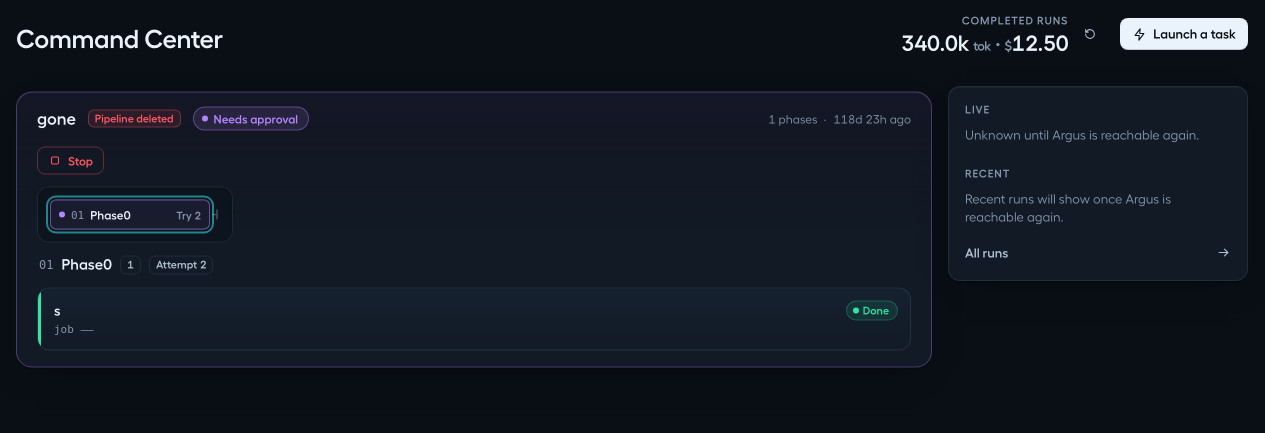
Test: an instance whose pipeline was deleted › asks before stopping, and Keep running leaves the instance alone
The width and height of the screenshot is (1265, 433).
Click the button "Stop" at (70, 155), box [37, 141, 104, 169]
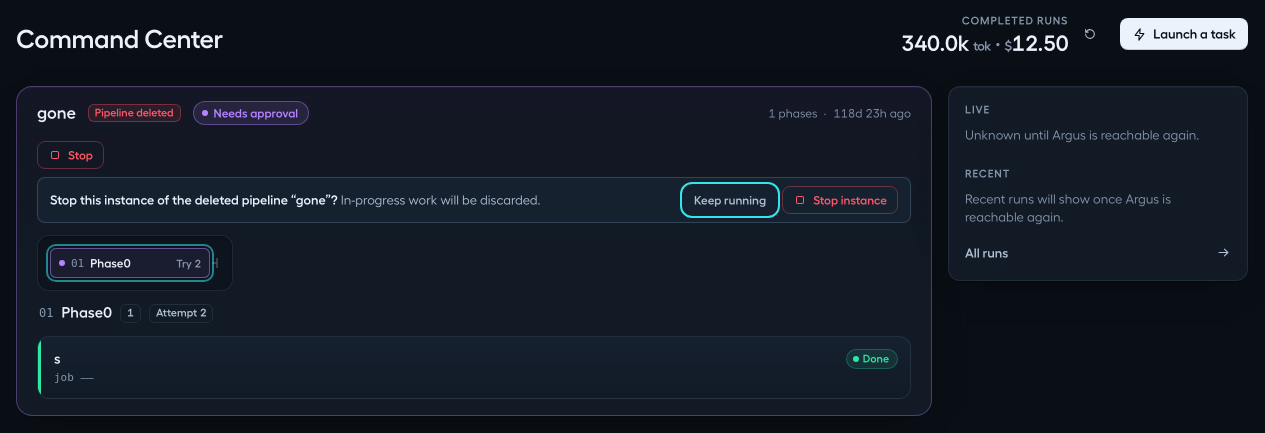
Click the button "Keep running" at (730, 200), box [684, 186, 776, 214]
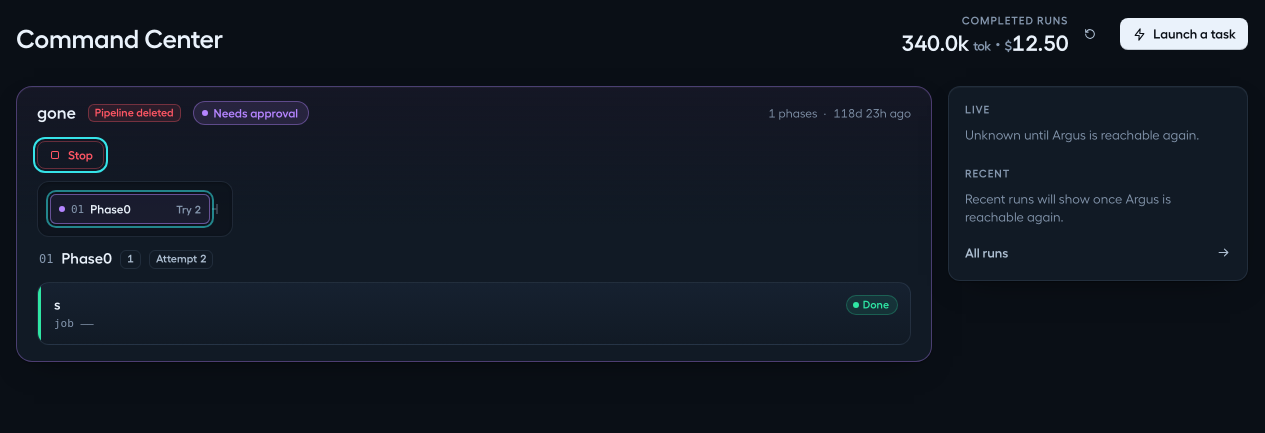
expect the text "Stop this instance" is gone: met
